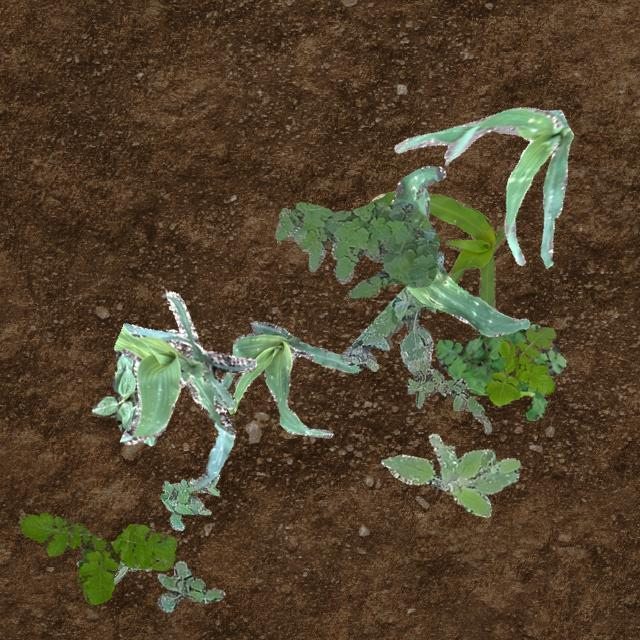crop: (393, 106, 572, 268), (112, 290, 255, 488), (390, 166, 530, 336), (368, 190, 506, 306), (220, 321, 358, 436), (90, 350, 156, 444)
weed: (274, 198, 438, 296), (16, 511, 176, 604), (338, 250, 444, 374), (434, 324, 564, 419), (380, 432, 520, 516), (406, 362, 490, 432), (484, 326, 554, 404), (156, 560, 224, 612), (160, 474, 218, 530), (112, 558, 150, 584)
